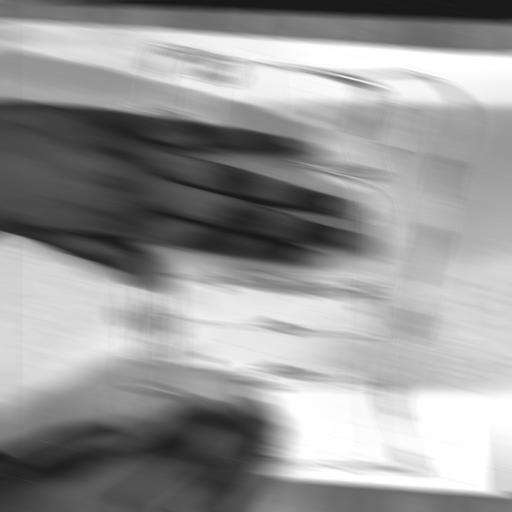bus: (92, 29, 497, 484)
top_left: (493, 491, 511, 500)
